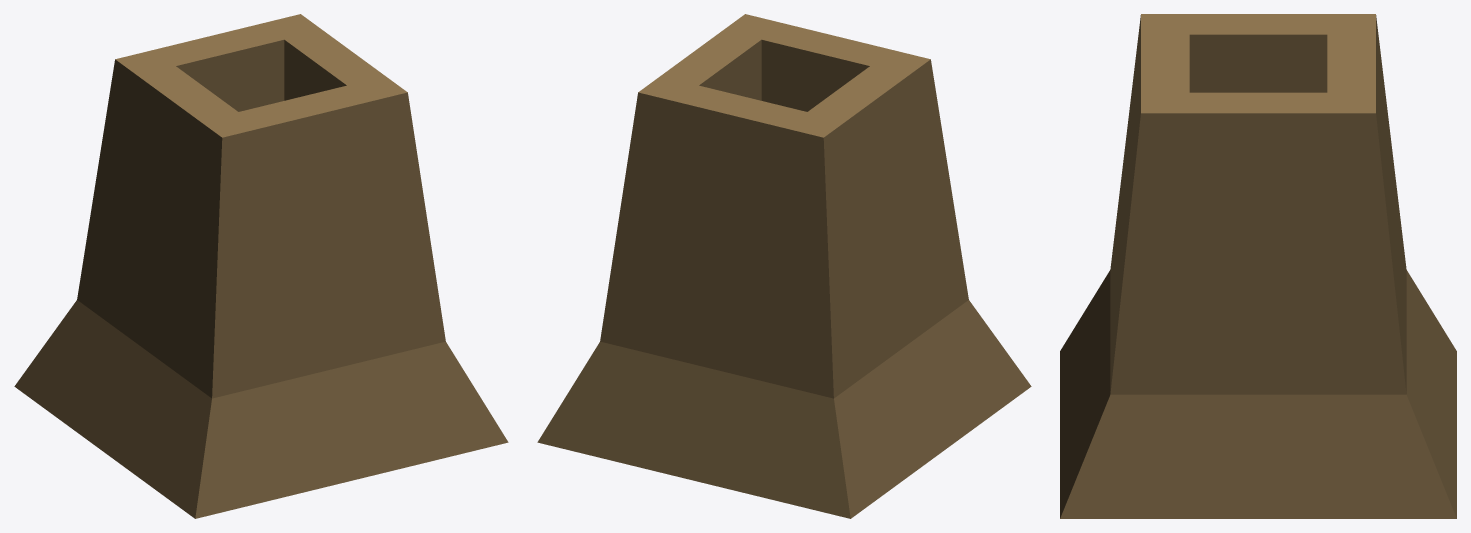
Rendered from Trunk_01.obj.
3 renders of one model, left to right at view 1: azimuth 30°, elevation 25°; view 2: azimuth 150°, elevation 25°; view 3: azimuth 270°, elevation 25°, orthographic. The views are drawn at different scales.
Visible parts, largest first — view 1: Mesh1_Trunk_Model; view 2: Mesh1_Trunk_Model; view 3: Mesh1_Trunk_Model.
Boxes of the visible parts, x1=… form: Mesh1_Trunk_Model: x1=14, y1=14, x2=508, y2=518; Mesh1_Trunk_Model: x1=537, y1=14, x2=1031, y2=518; Mesh1_Trunk_Model: x1=1060, y1=14, x2=1456, y2=518.
Bounding box in the file's own units: 0.8037 × 0.83 × 0.8037.
